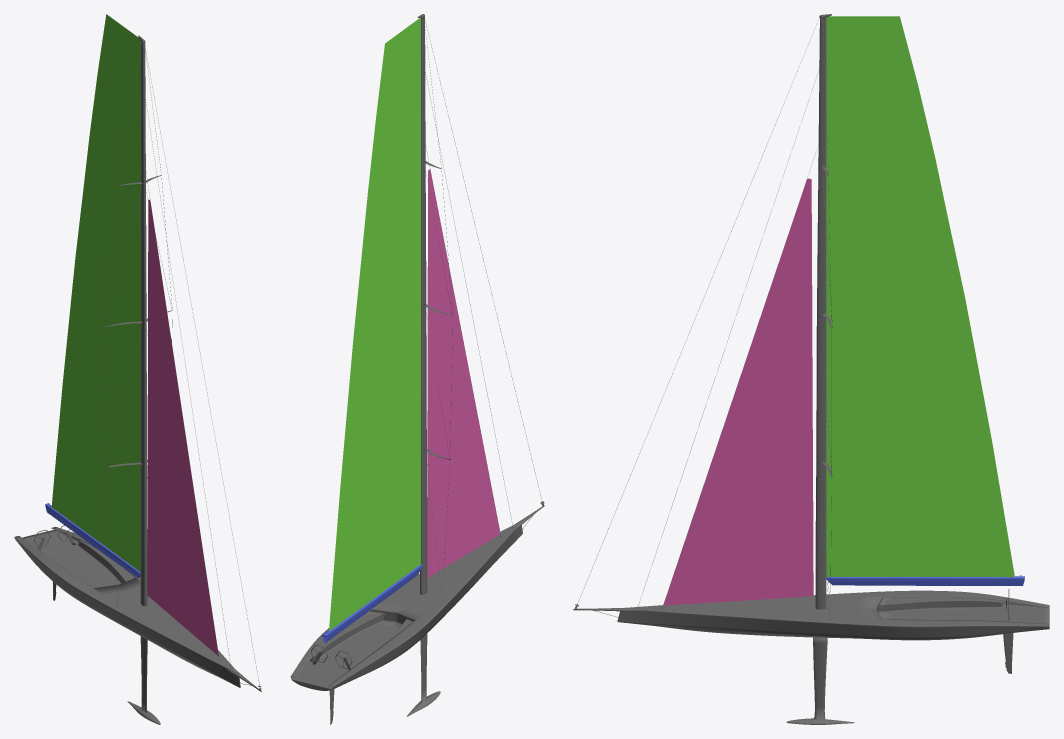
The model's file is ac_68_animé_voiles_coque_ajoutée.fbx.
The picture shows the model from 3 angles, left to right: view 1: azimuth 30°, elevation 25°; view 2: azimuth 150°, elevation 25°; view 3: azimuth 270°, elevation 25°; orthographic projection. The views are drawn at different scales.
Visible parts, largest first — view 1: mainsail, hull, sail1, Boom; view 2: mainsail, hull, sail1, Boom; view 3: mainsail, sail1, hull, Boom.
Part boxes in pixels (<box>): mainsail: <box>51,14,140,571</box>; hull: <box>14,35,261,724</box>; sail1: <box>147,199,218,655</box>; Boom: <box>45,503,140,577</box>; mainsail: <box>329,18,420,630</box>; hull: <box>290,14,544,724</box>; sail1: <box>427,169,500,577</box>; Boom: <box>322,564,422,642</box>; mainsail: <box>826,16,1014,577</box>; sail1: <box>663,178,813,605</box>; hull: <box>573,14,1049,724</box>; Boom: <box>826,575,1024,585</box>.
Bounding box in the file's own units: 403 × 3730 × 2270.
